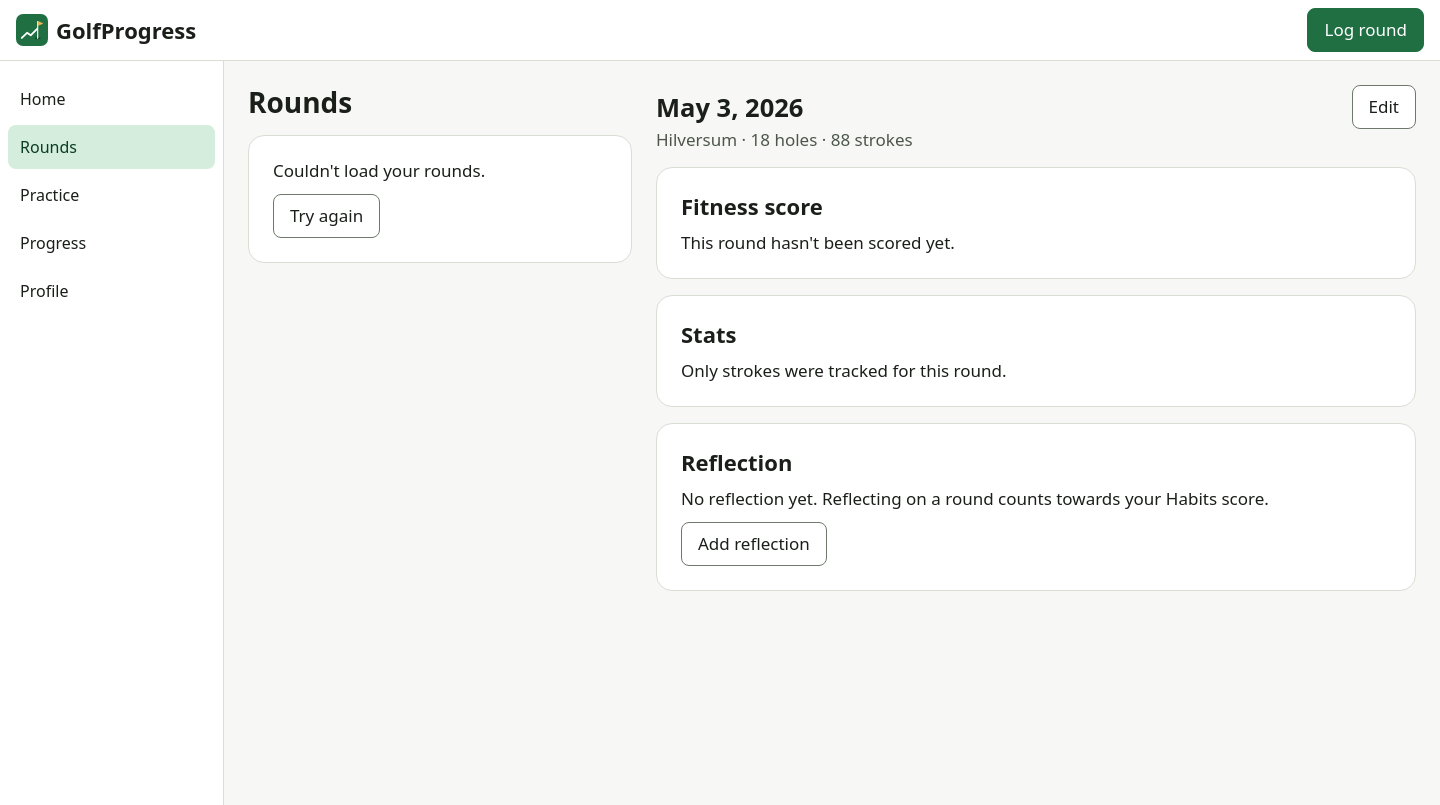
Test: reflections (#99) › adds a reflection inline and shows it on the round
Expected: the text "No reflection yet" is shown, [681, 487, 1269, 510]
Click the button "Add reflection": (754, 544) [681, 522, 827, 566]
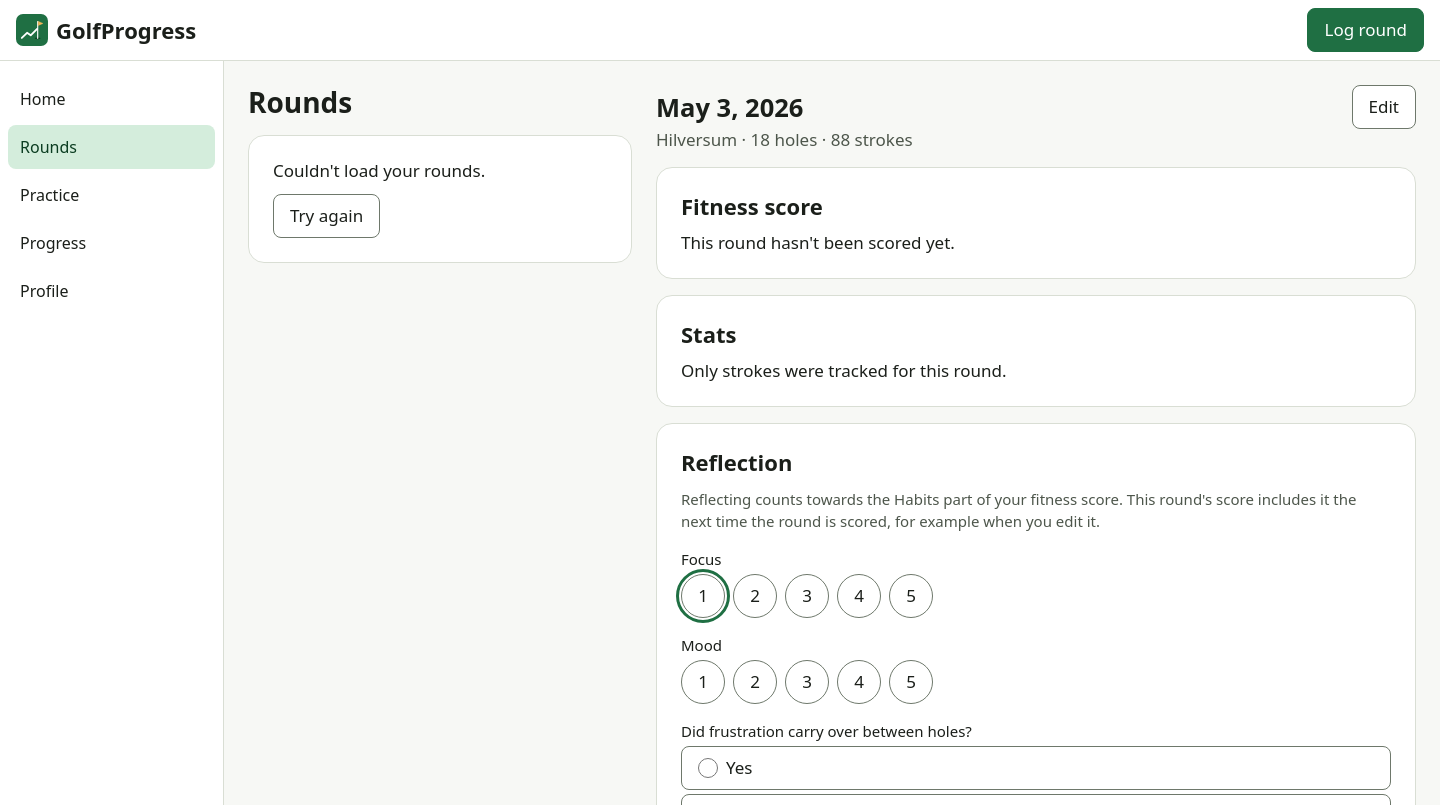
Expected: the text "counts towards the Habits part of your fitness score" is shown, [681, 489, 1356, 531]
Click the radio button named "4 of 5": (859, 596) [837, 574, 881, 618]
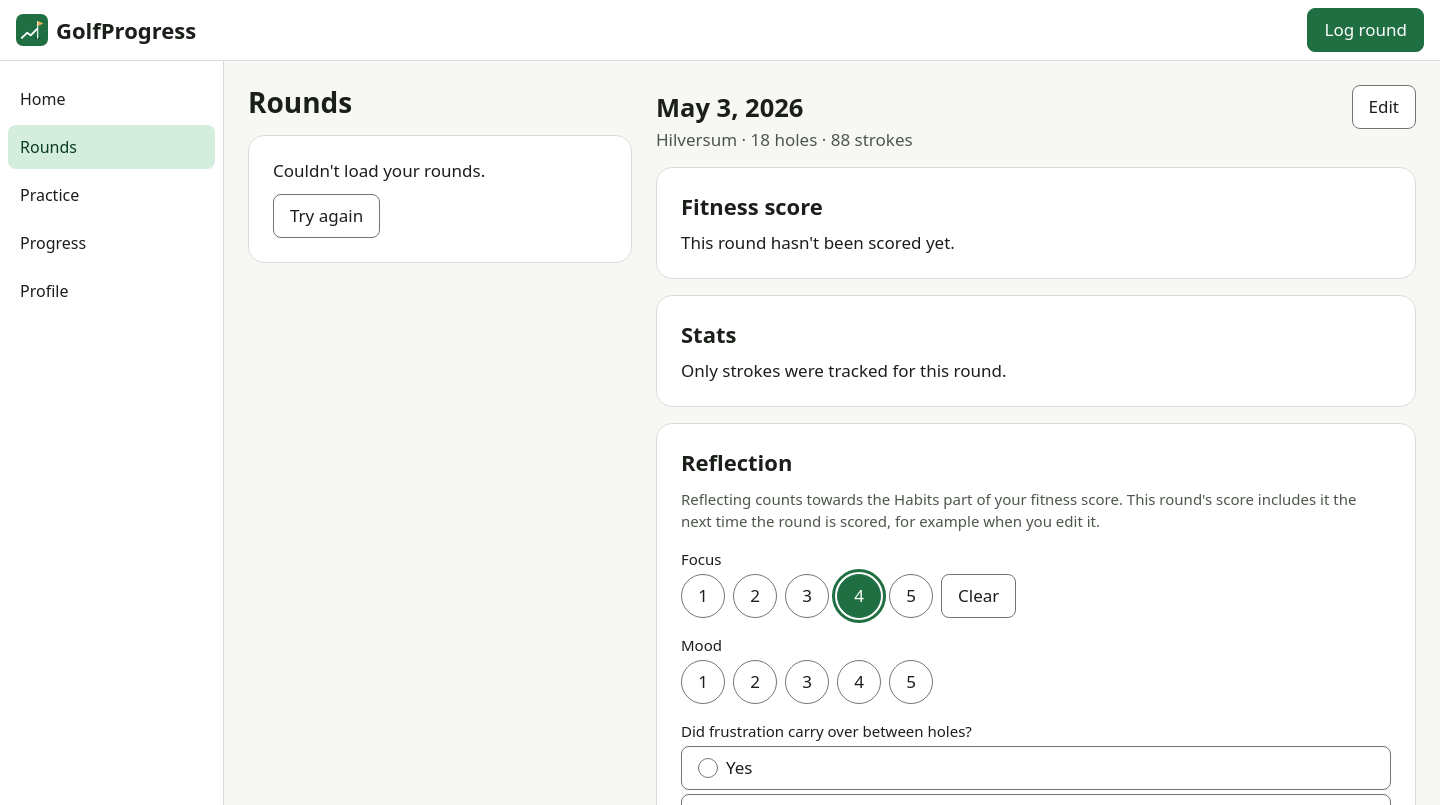
Click the radio button named "3 of 5": (807, 682) [785, 660, 829, 704]
(page scrolled)
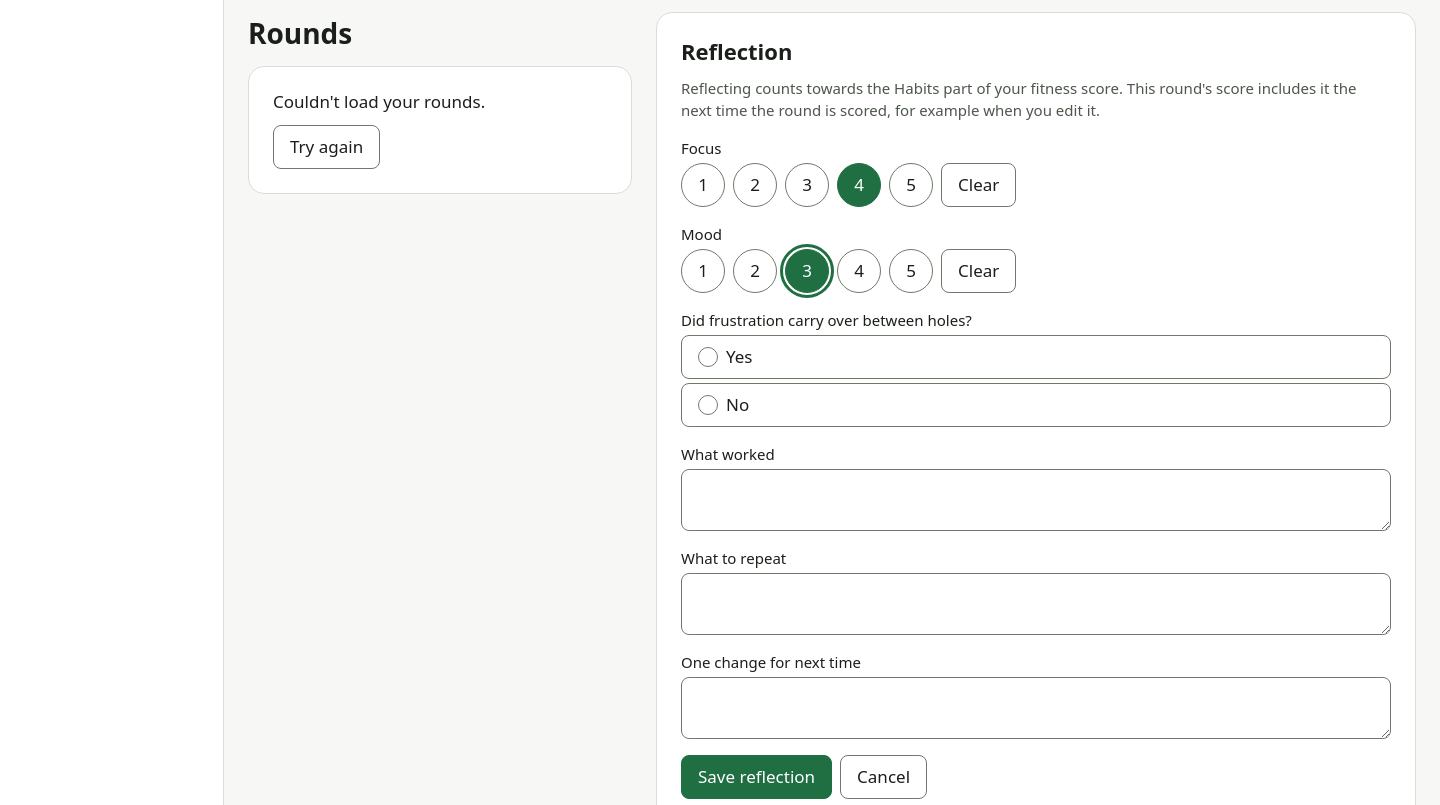
Click the radio button labelled "No": (708, 405) [698, 395, 718, 415]
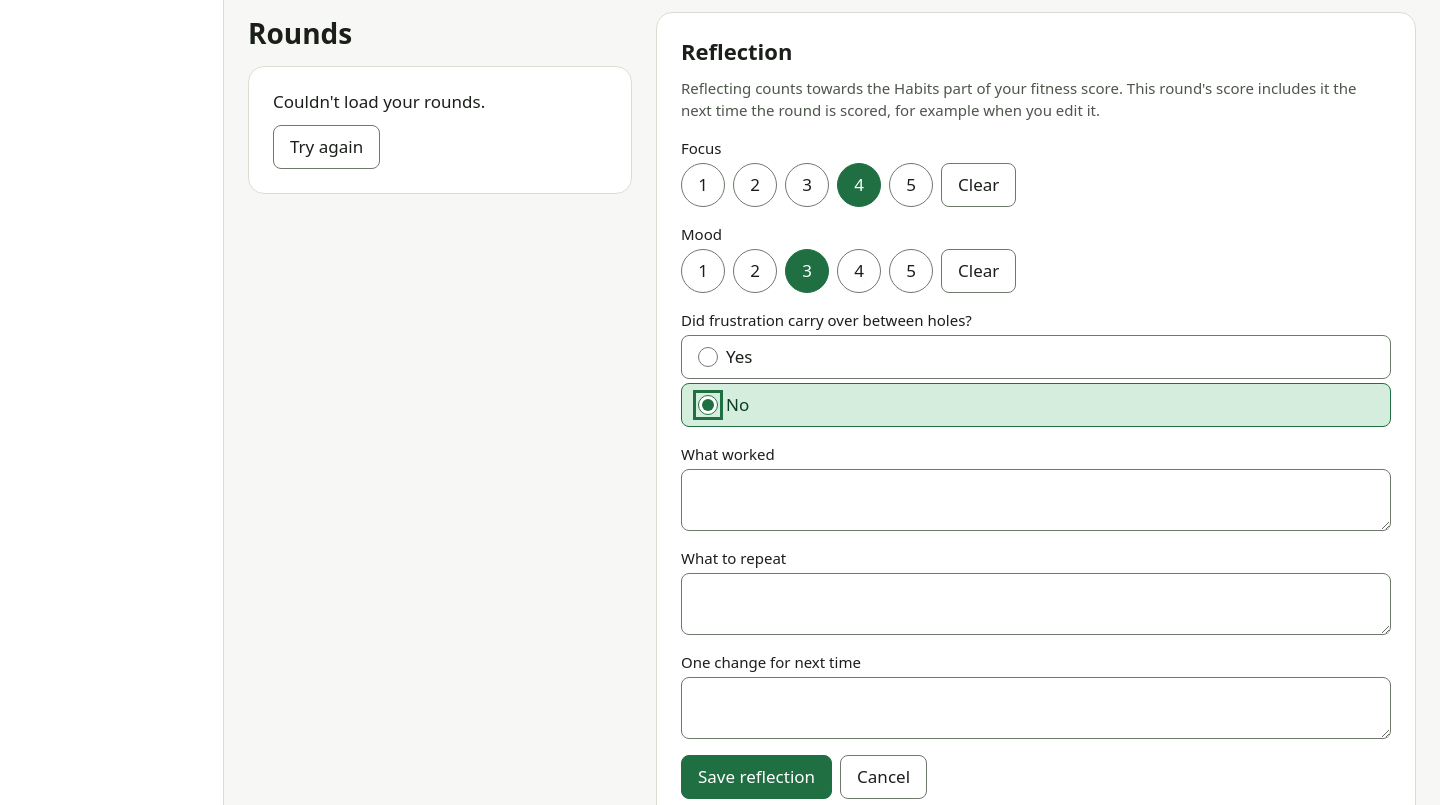
In the text box labelled "What worked": (1036, 500) [681, 469, 1391, 531], type "  Kept the driver in play "
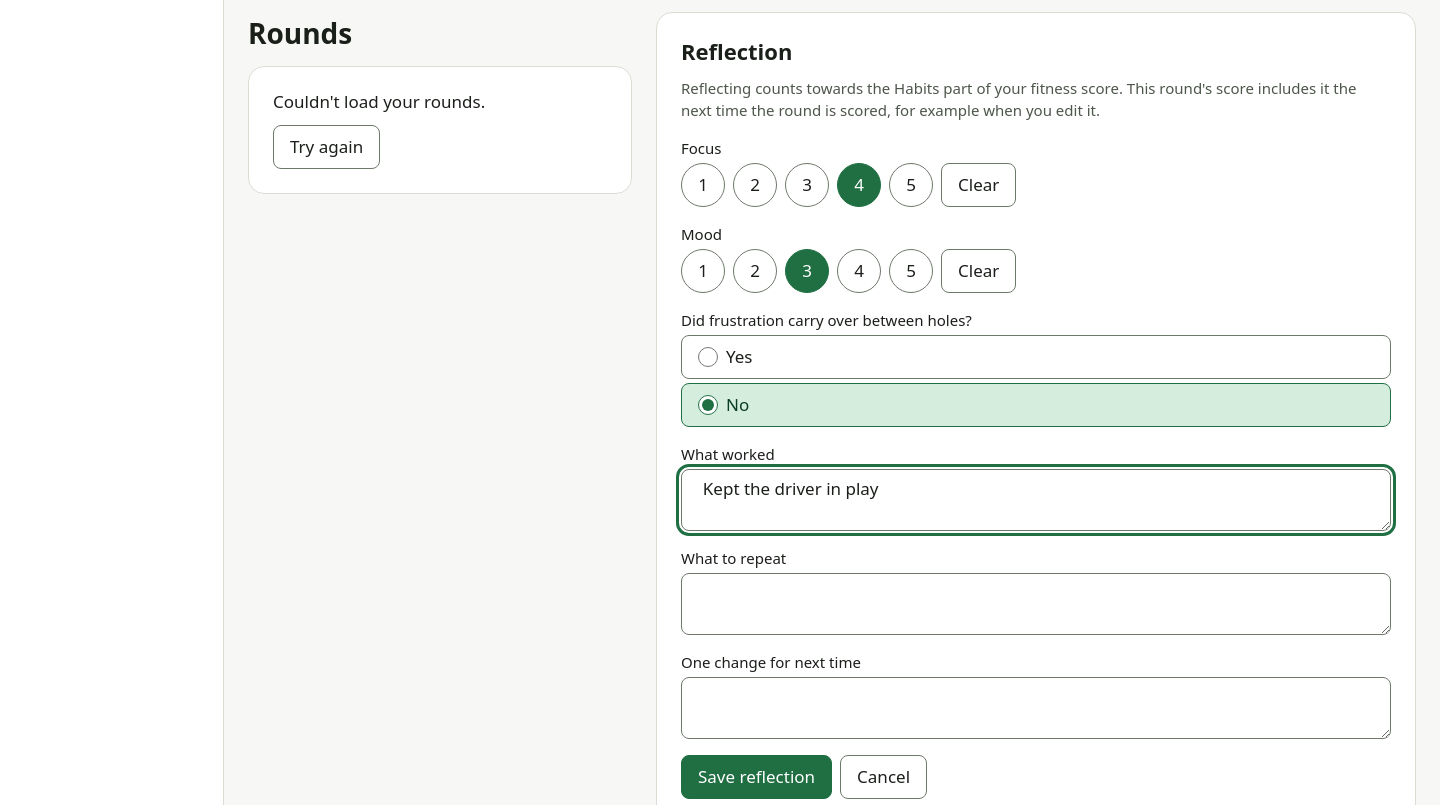
Click the button "Save reflection": (757, 777) [681, 755, 832, 799]
(page scrolled)
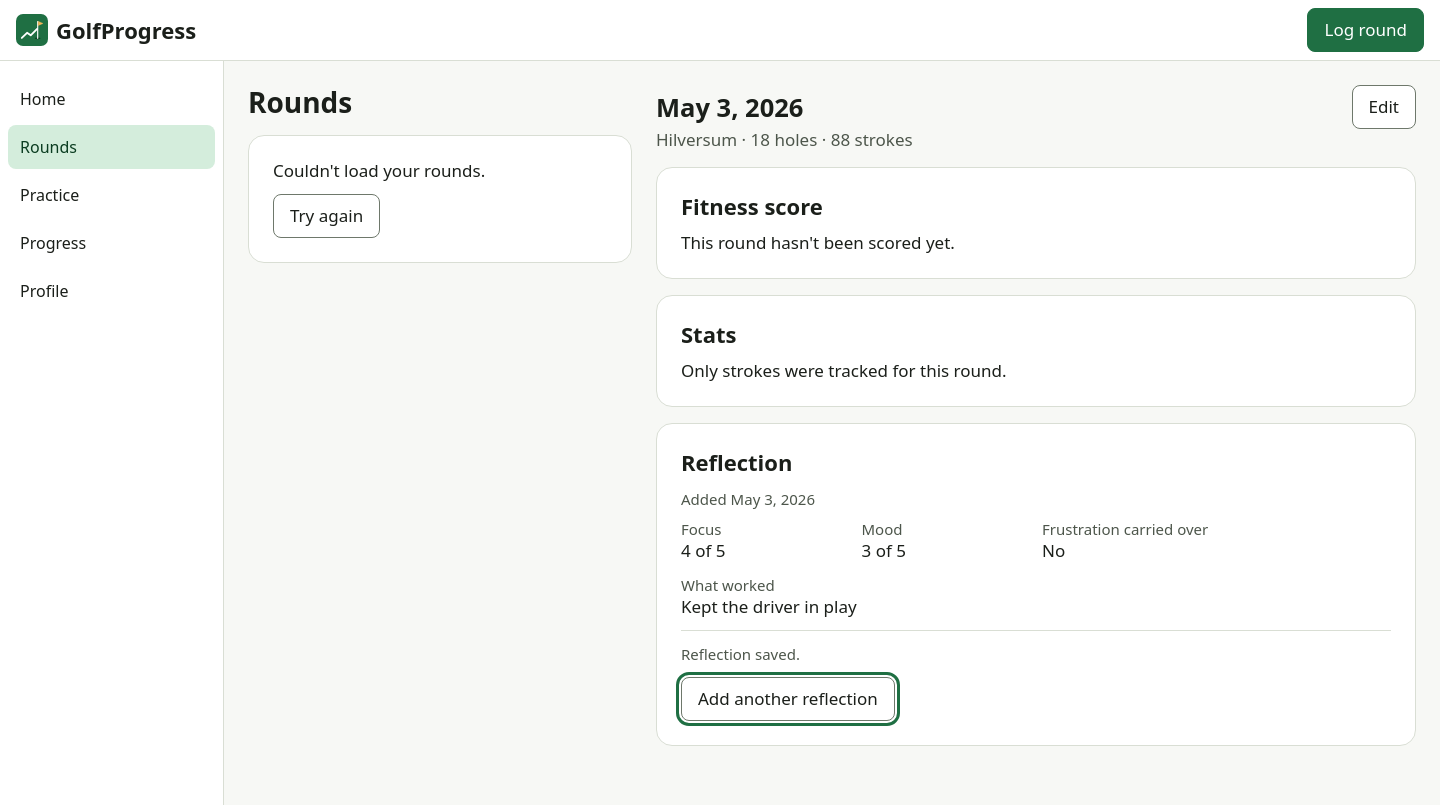
Expected: the text "Reflection saved." is shown, [681, 644, 800, 664]
Expected: the text "4 of 5" is shown, [681, 539, 725, 562]
Expected: the text "Kept the driver in play" is shown, [681, 595, 857, 618]
